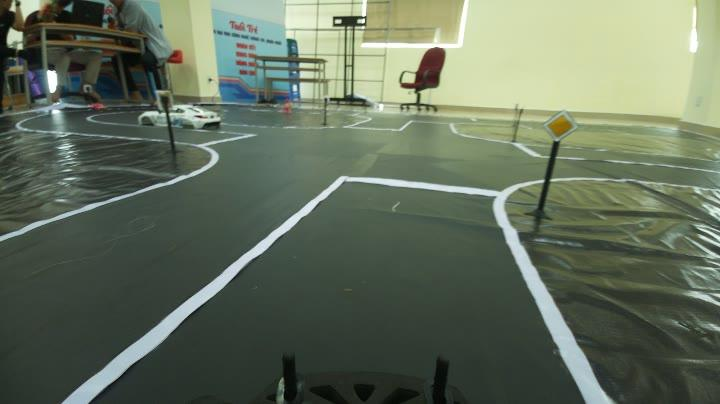priority: (544, 109, 578, 148)
